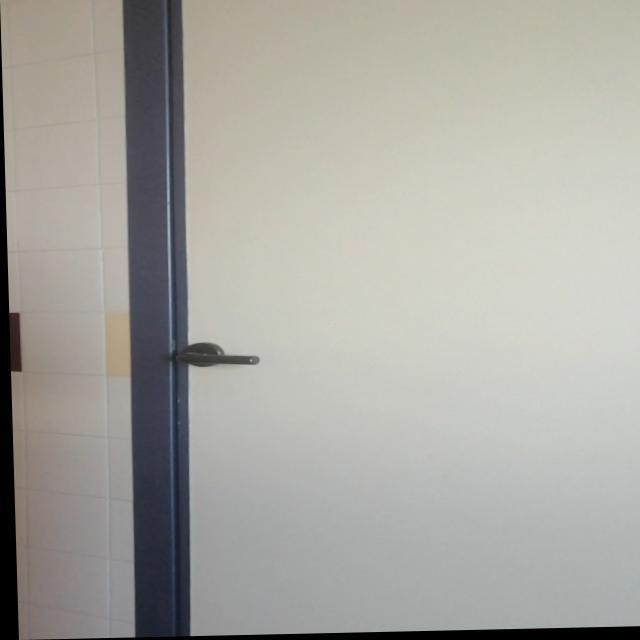door_handle: (168, 350, 260, 369)
